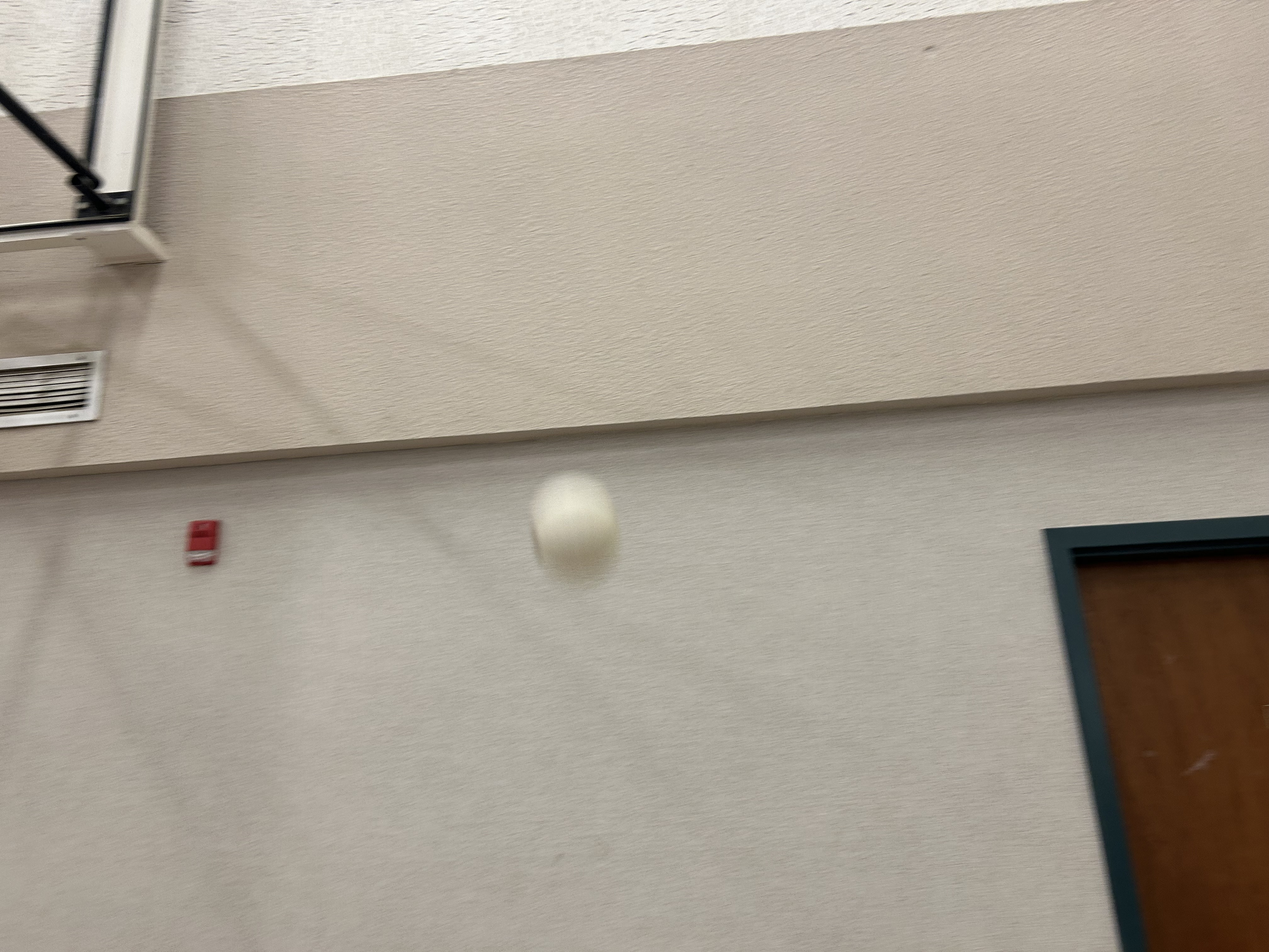Ball: (525, 486, 648, 581)
